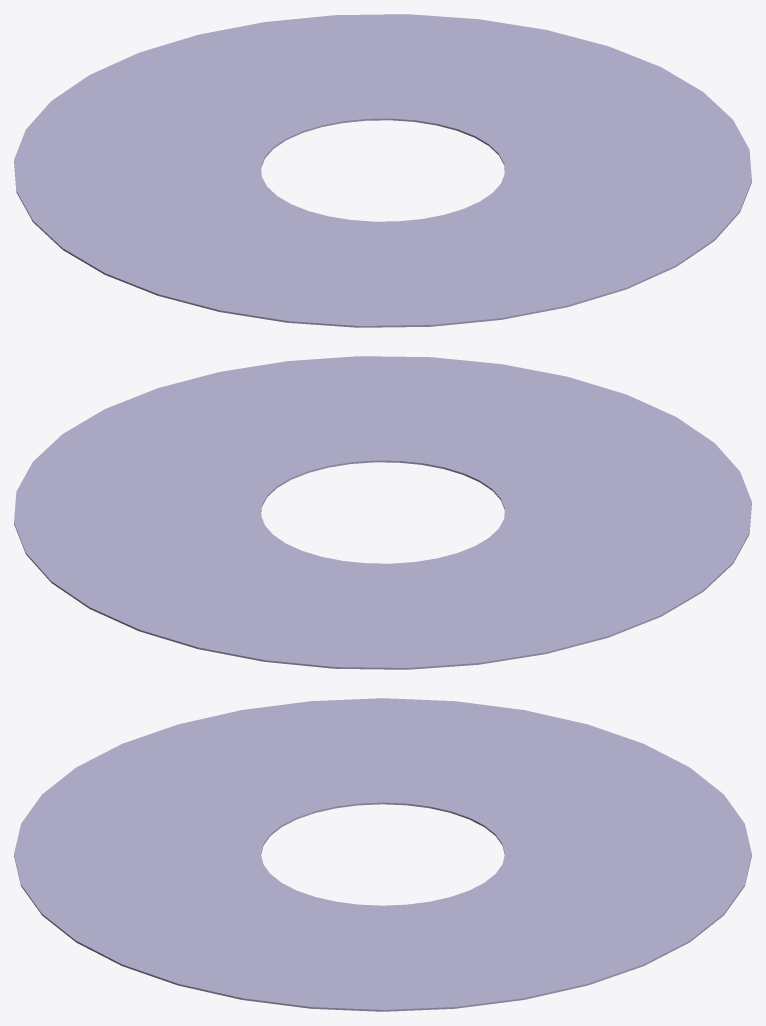
File: Ground_Top.fbx
3 views of the same model, one above another, from view 1: azimuth 30°, elevation 25°; view 2: azimuth 150°, elevation 25°; view 3: azimuth 270°, elevation 25° (orthographic).
Parts seen in each view (by area): view 1: Ground_Top; view 2: Ground_Top; view 3: Ground_Top.
Boxes of the visible parts, x1=… form: Ground_Top: x1=14, y1=14, x2=751, y2=327; Ground_Top: x1=14, y1=356, x2=751, y2=669; Ground_Top: x1=14, y1=698, x2=751, y2=1011.
Size of the model in its own units: 39.59 by 0.1038 by 39.59.
